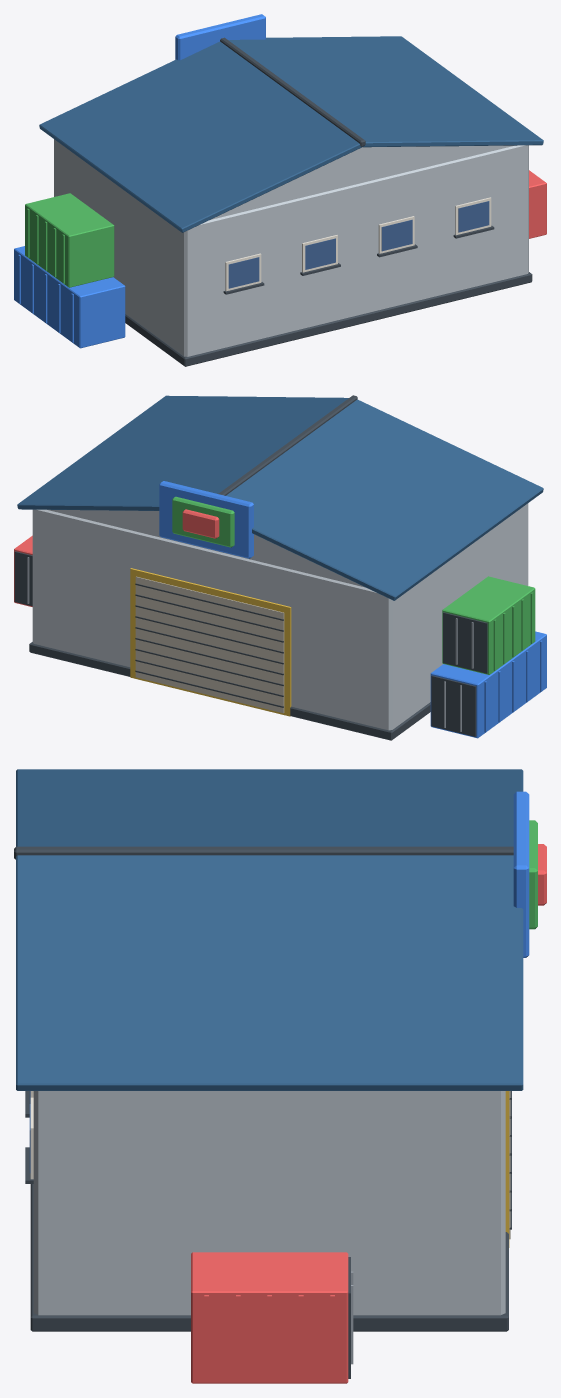
Rendered from bld_garage_lesson08.glb.
The picture shows the model from 3 angles, top to bottom: view 1: azimuth 30°, elevation 25°; view 2: azimuth 150°, elevation 25°; view 3: azimuth 270°, elevation 25°; orthographic projection. The views are drawn at different scales.
Visible parts, largest first — view 1: bld_garage_lesson08; view 2: bld_garage_lesson08; view 3: bld_garage_lesson08.
Boxes of the visible parts, box(x1,y1,x2,y2) form: bld_garage_lesson08: box(14, 14, 546, 366); bld_garage_lesson08: box(14, 395, 546, 740); bld_garage_lesson08: box(14, 769, 546, 1383).
Size of the model in its own units: 24.54 by 9.91 by 13.55.
